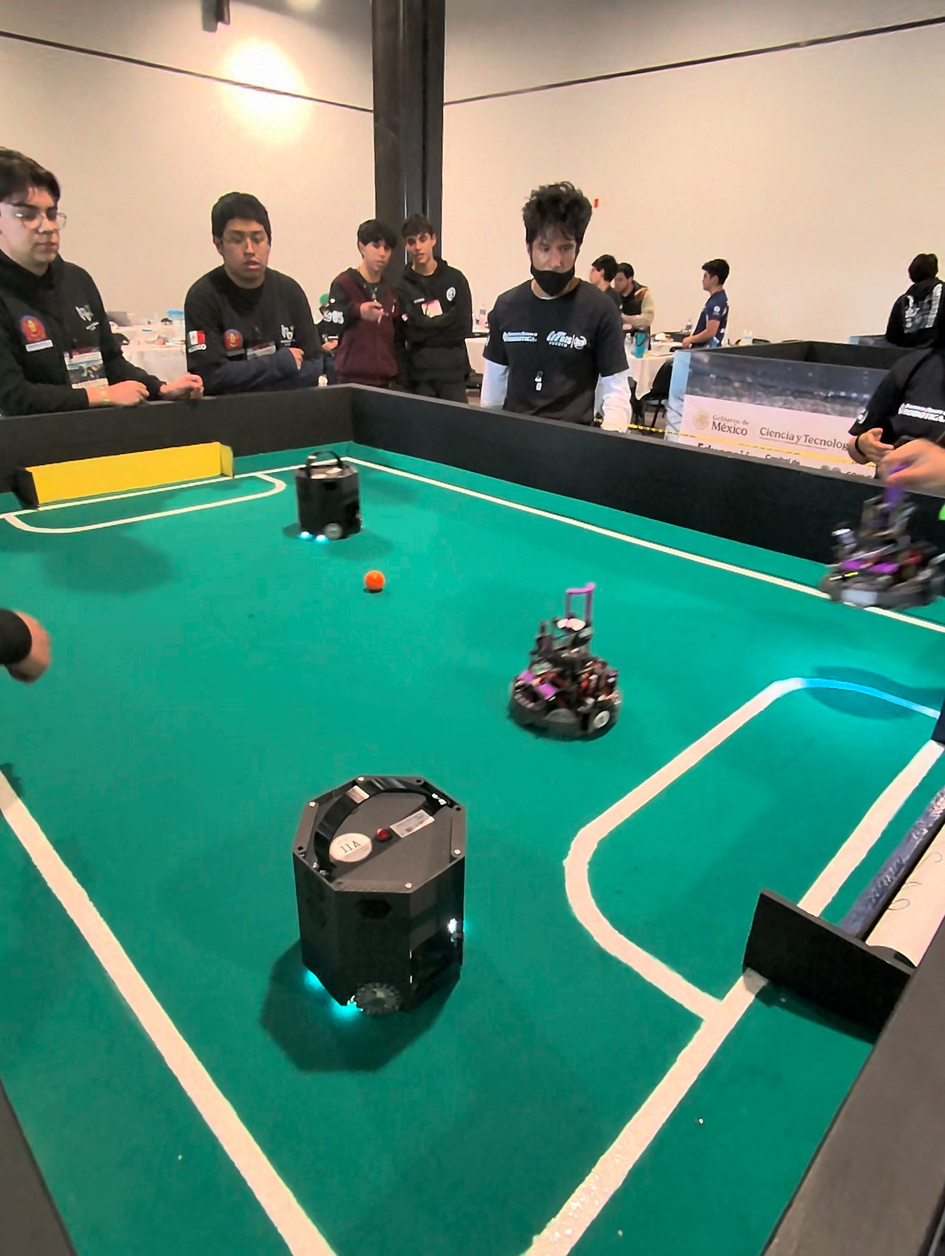Robot: (290, 787, 467, 1055), (508, 605, 624, 746), (819, 497, 938, 613), (289, 449, 366, 556)
pelota: (365, 569, 386, 591)
